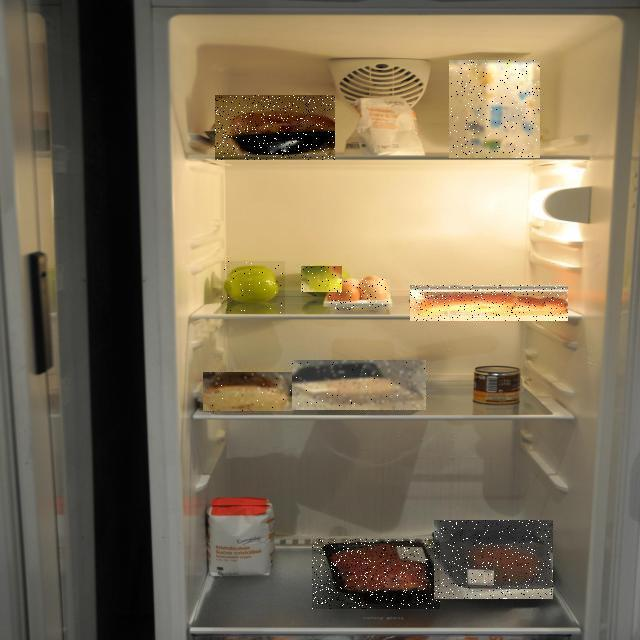Apple: (221, 261, 285, 314), (301, 266, 342, 292)
Bread: (203, 372, 292, 411)
Carrot: (410, 285, 568, 321)
Eggs: (329, 279, 390, 310)
Meat: (434, 520, 553, 599), (312, 539, 440, 609), (215, 95, 335, 160), (292, 360, 426, 410)
Milk: (449, 60, 540, 158)
